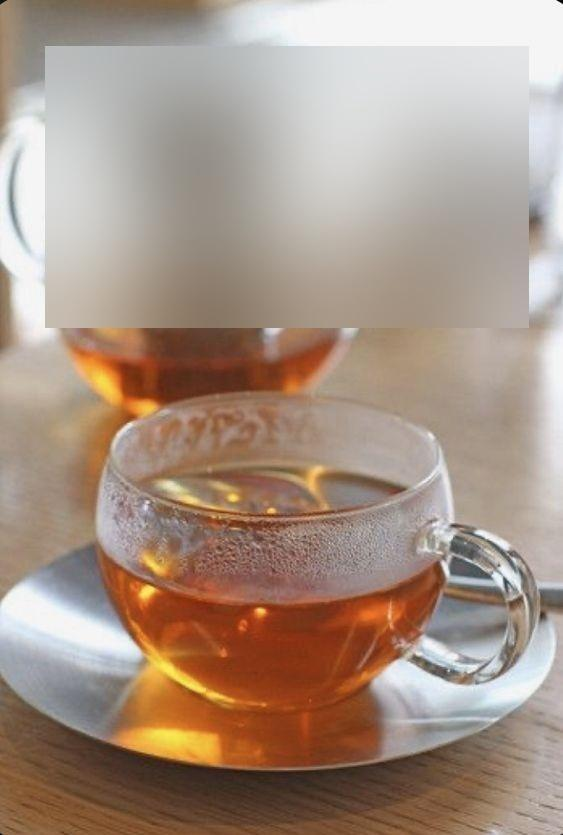glass-mug: (87, 385, 550, 718)
